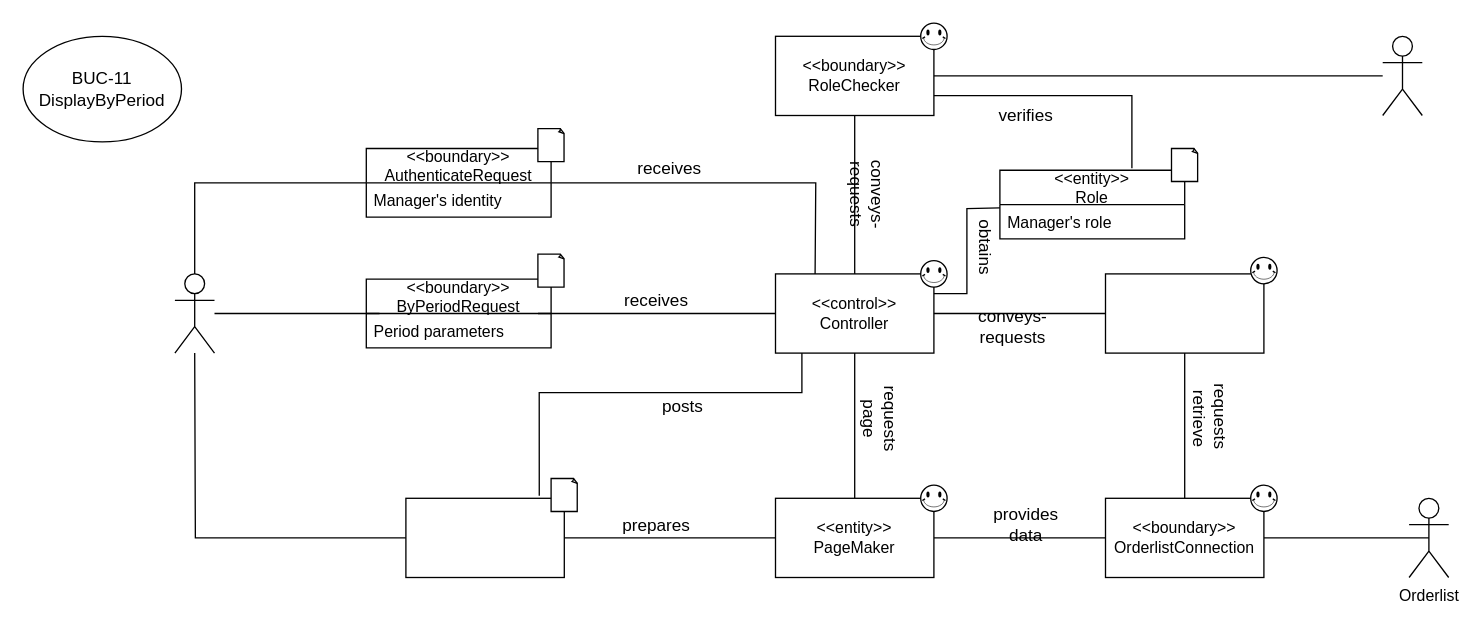
Image size: 1481x628. Some labels were removed from this diagram. The shapes that lost their labels are listed below. From the top down, each one's centre as x and y in pixels, then its label:
point 1401,75: Authenticator
point 194,313: Manager
point 1184,313: <<entity>> DisplaySalesOperator
point 484,537: <<boundary>> InterfacePage
